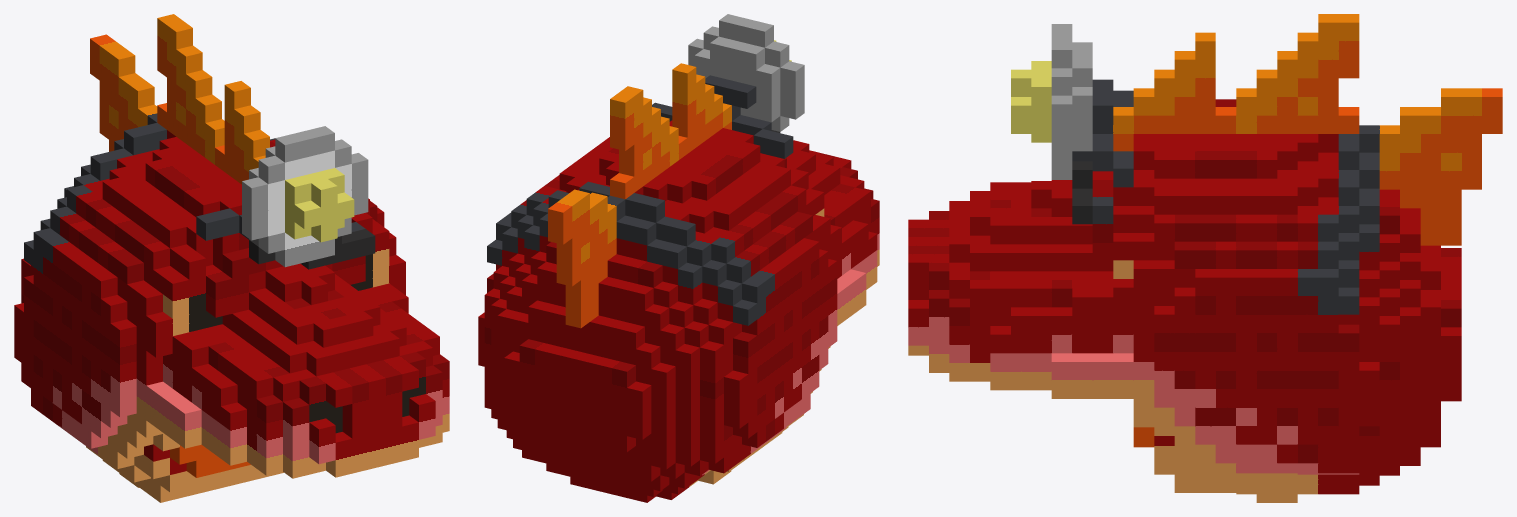
The model's file is doctor_eye patch.gltf.
3 views of the same model, side by side, from view 1: azimuth 30°, elevation 25°; view 2: azimuth 150°, elevation 25°; view 3: azimuth 270°, elevation 25° (orthographic). The views are drawn at different scales.
Parts seen in each view (by area): view 1: C15_H_DoctorL_EyeP_SkyDiving-Mesh; view 2: C15_H_DoctorL_EyeP_SkyDiving-Mesh; view 3: C15_H_DoctorL_EyeP_SkyDiving-Mesh.
Part boxes in pixels (x1,y1,x2,y2): C15_H_DoctorL_EyeP_SkyDiving-Mesh: (14,14,449,502); C15_H_DoctorL_EyeP_SkyDiving-Mesh: (478,14,879,502); C15_H_DoctorL_EyeP_SkyDiving-Mesh: (908,14,1502,502).
Bounding box in the file's own units: 17 × 24 × 29.
Materials: 1 (1 with a texture image).
